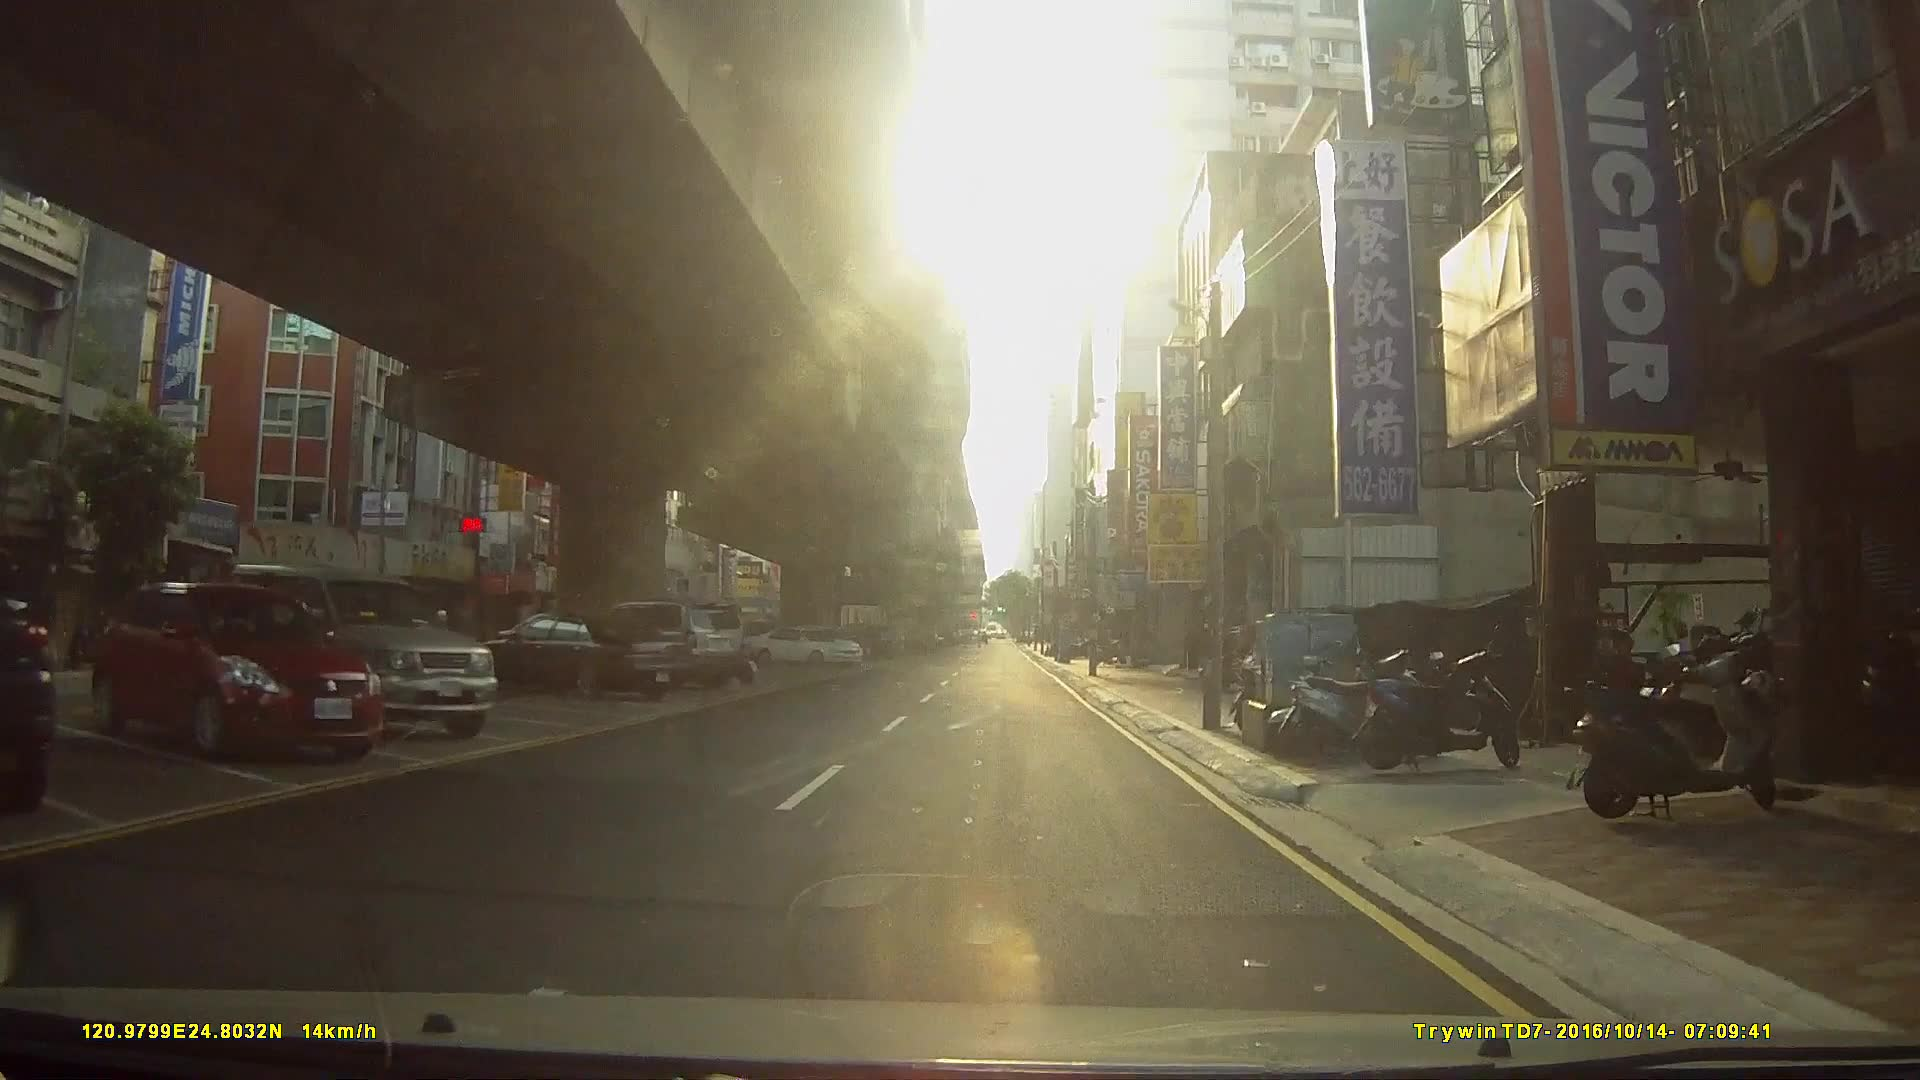vehicle: (87, 582, 382, 762), (222, 562, 498, 746), (481, 615, 690, 703), (580, 601, 744, 694), (746, 625, 865, 669)
